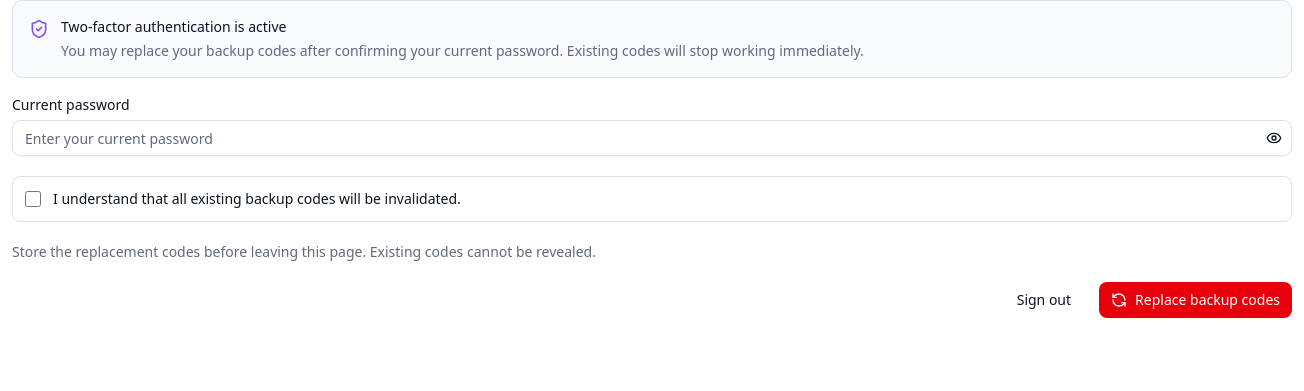
Test: two-factor setup container › requires password and explicit confirmation before regeneration
The width and height of the screenshot is (1304, 391).
Step 1. Click the button "Replace backup codes" → (1196, 300), box left=1099, top=282, right=1292, bottom=318
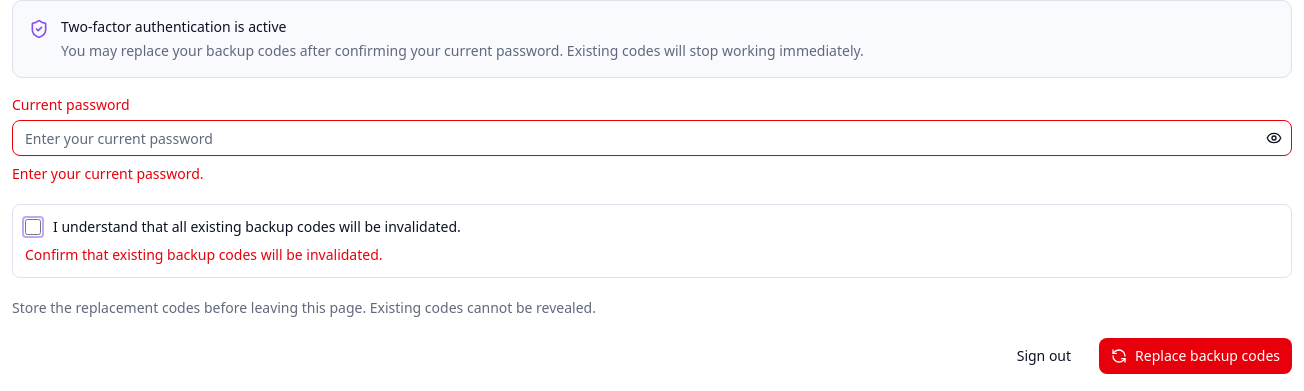
Result: the text "Enter your current password." is shown at left=12, top=164, right=204, bottom=183
